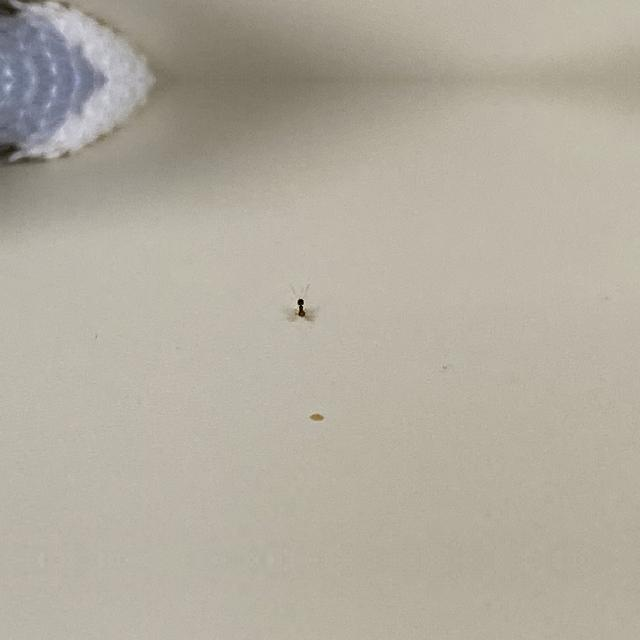Tapinoma: (291, 296, 313, 322)
